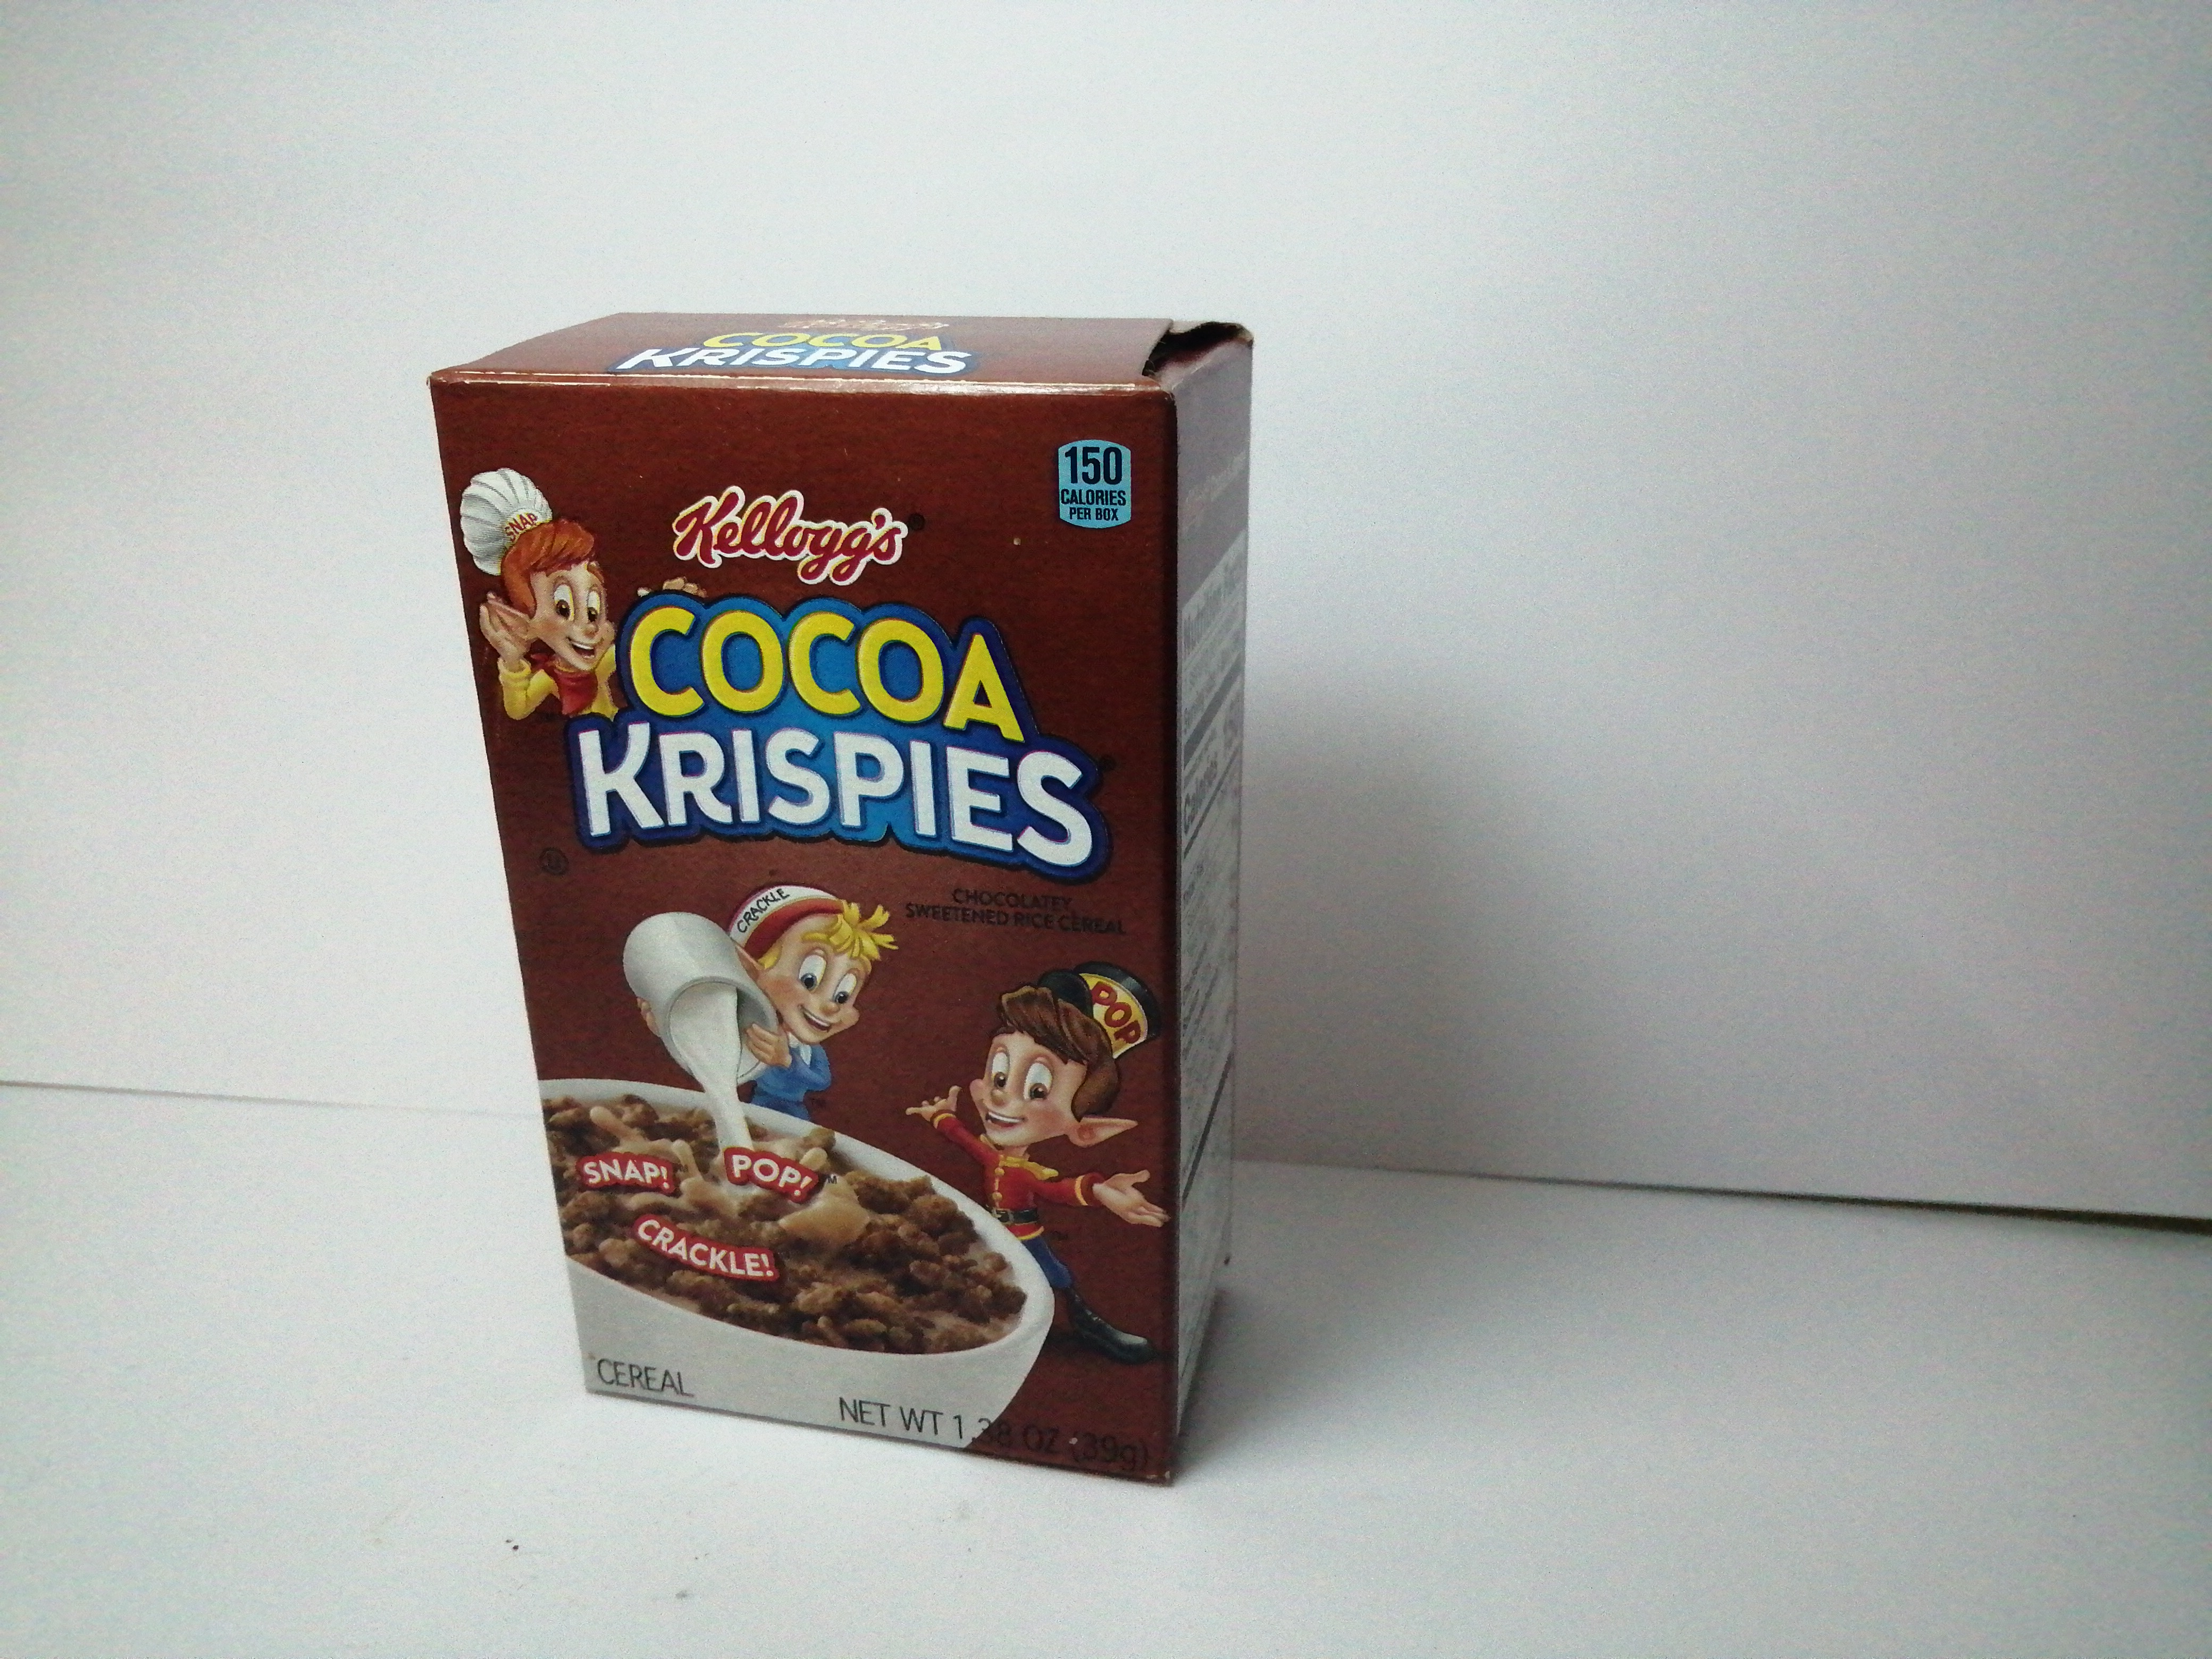cereal chocolate: (408, 295, 1282, 1497)
